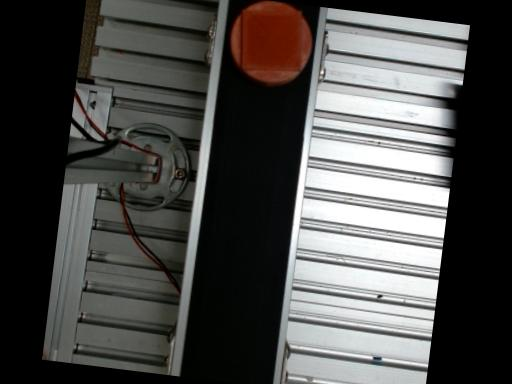Brown_Waper: (230, 0, 313, 85)
Square: (242, 9, 302, 69)
